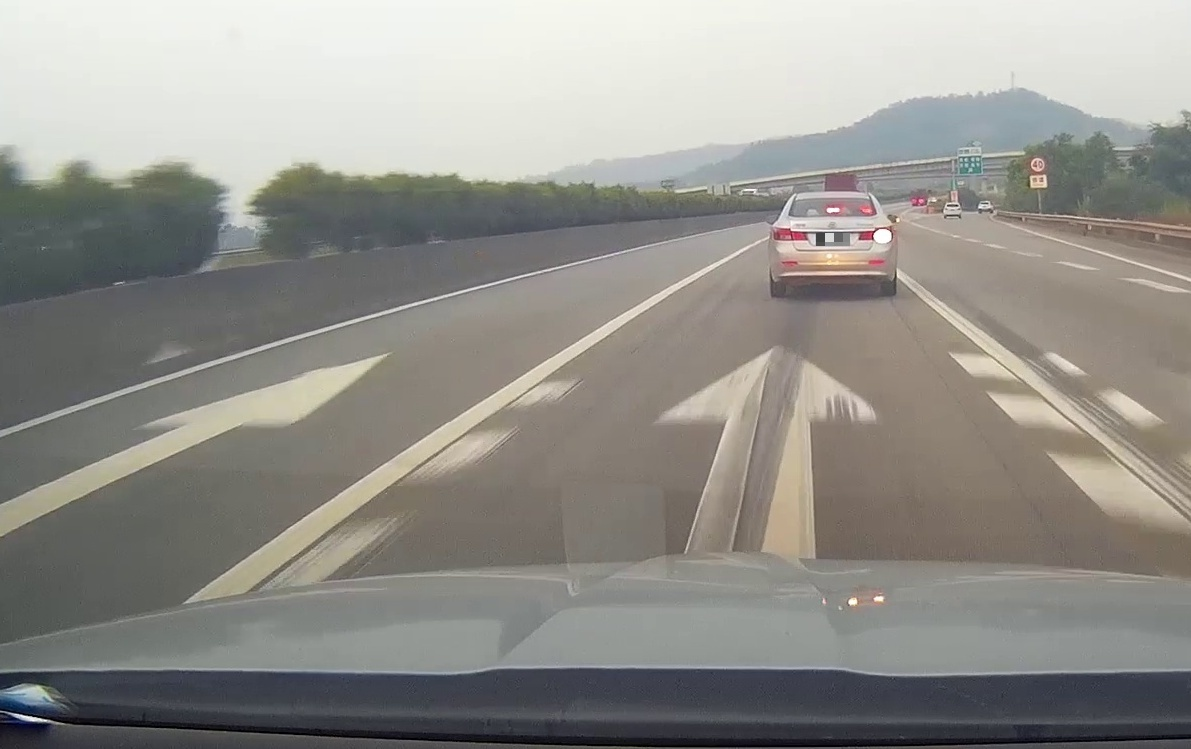L_light: (772, 227, 808, 241)
R_light: (858, 227, 893, 241)
T_light: (827, 207, 839, 212)
day-right: (769, 189, 897, 296)
plate_1: (816, 233, 850, 246)
